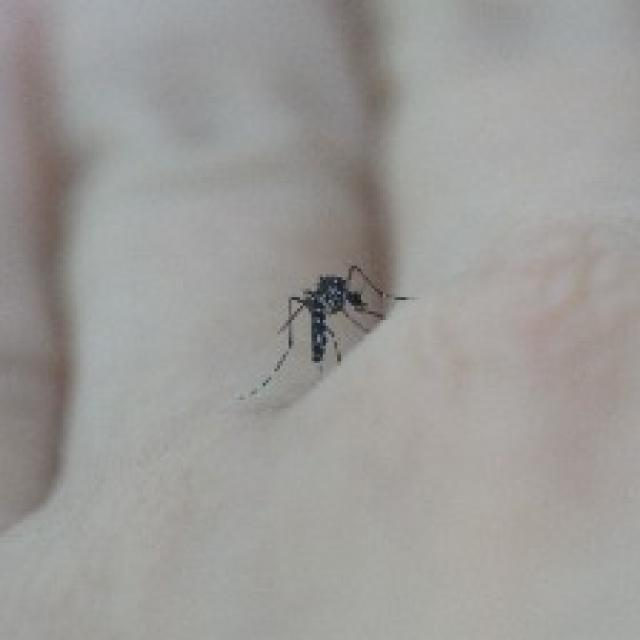aedes: (243, 260, 414, 400)
